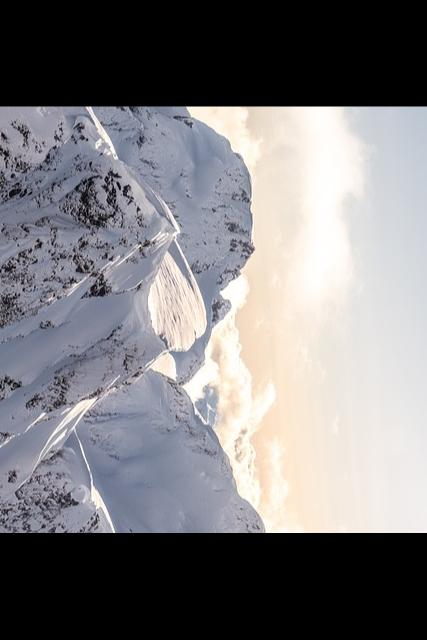Non_Gorille: (0, 116, 427, 533)
